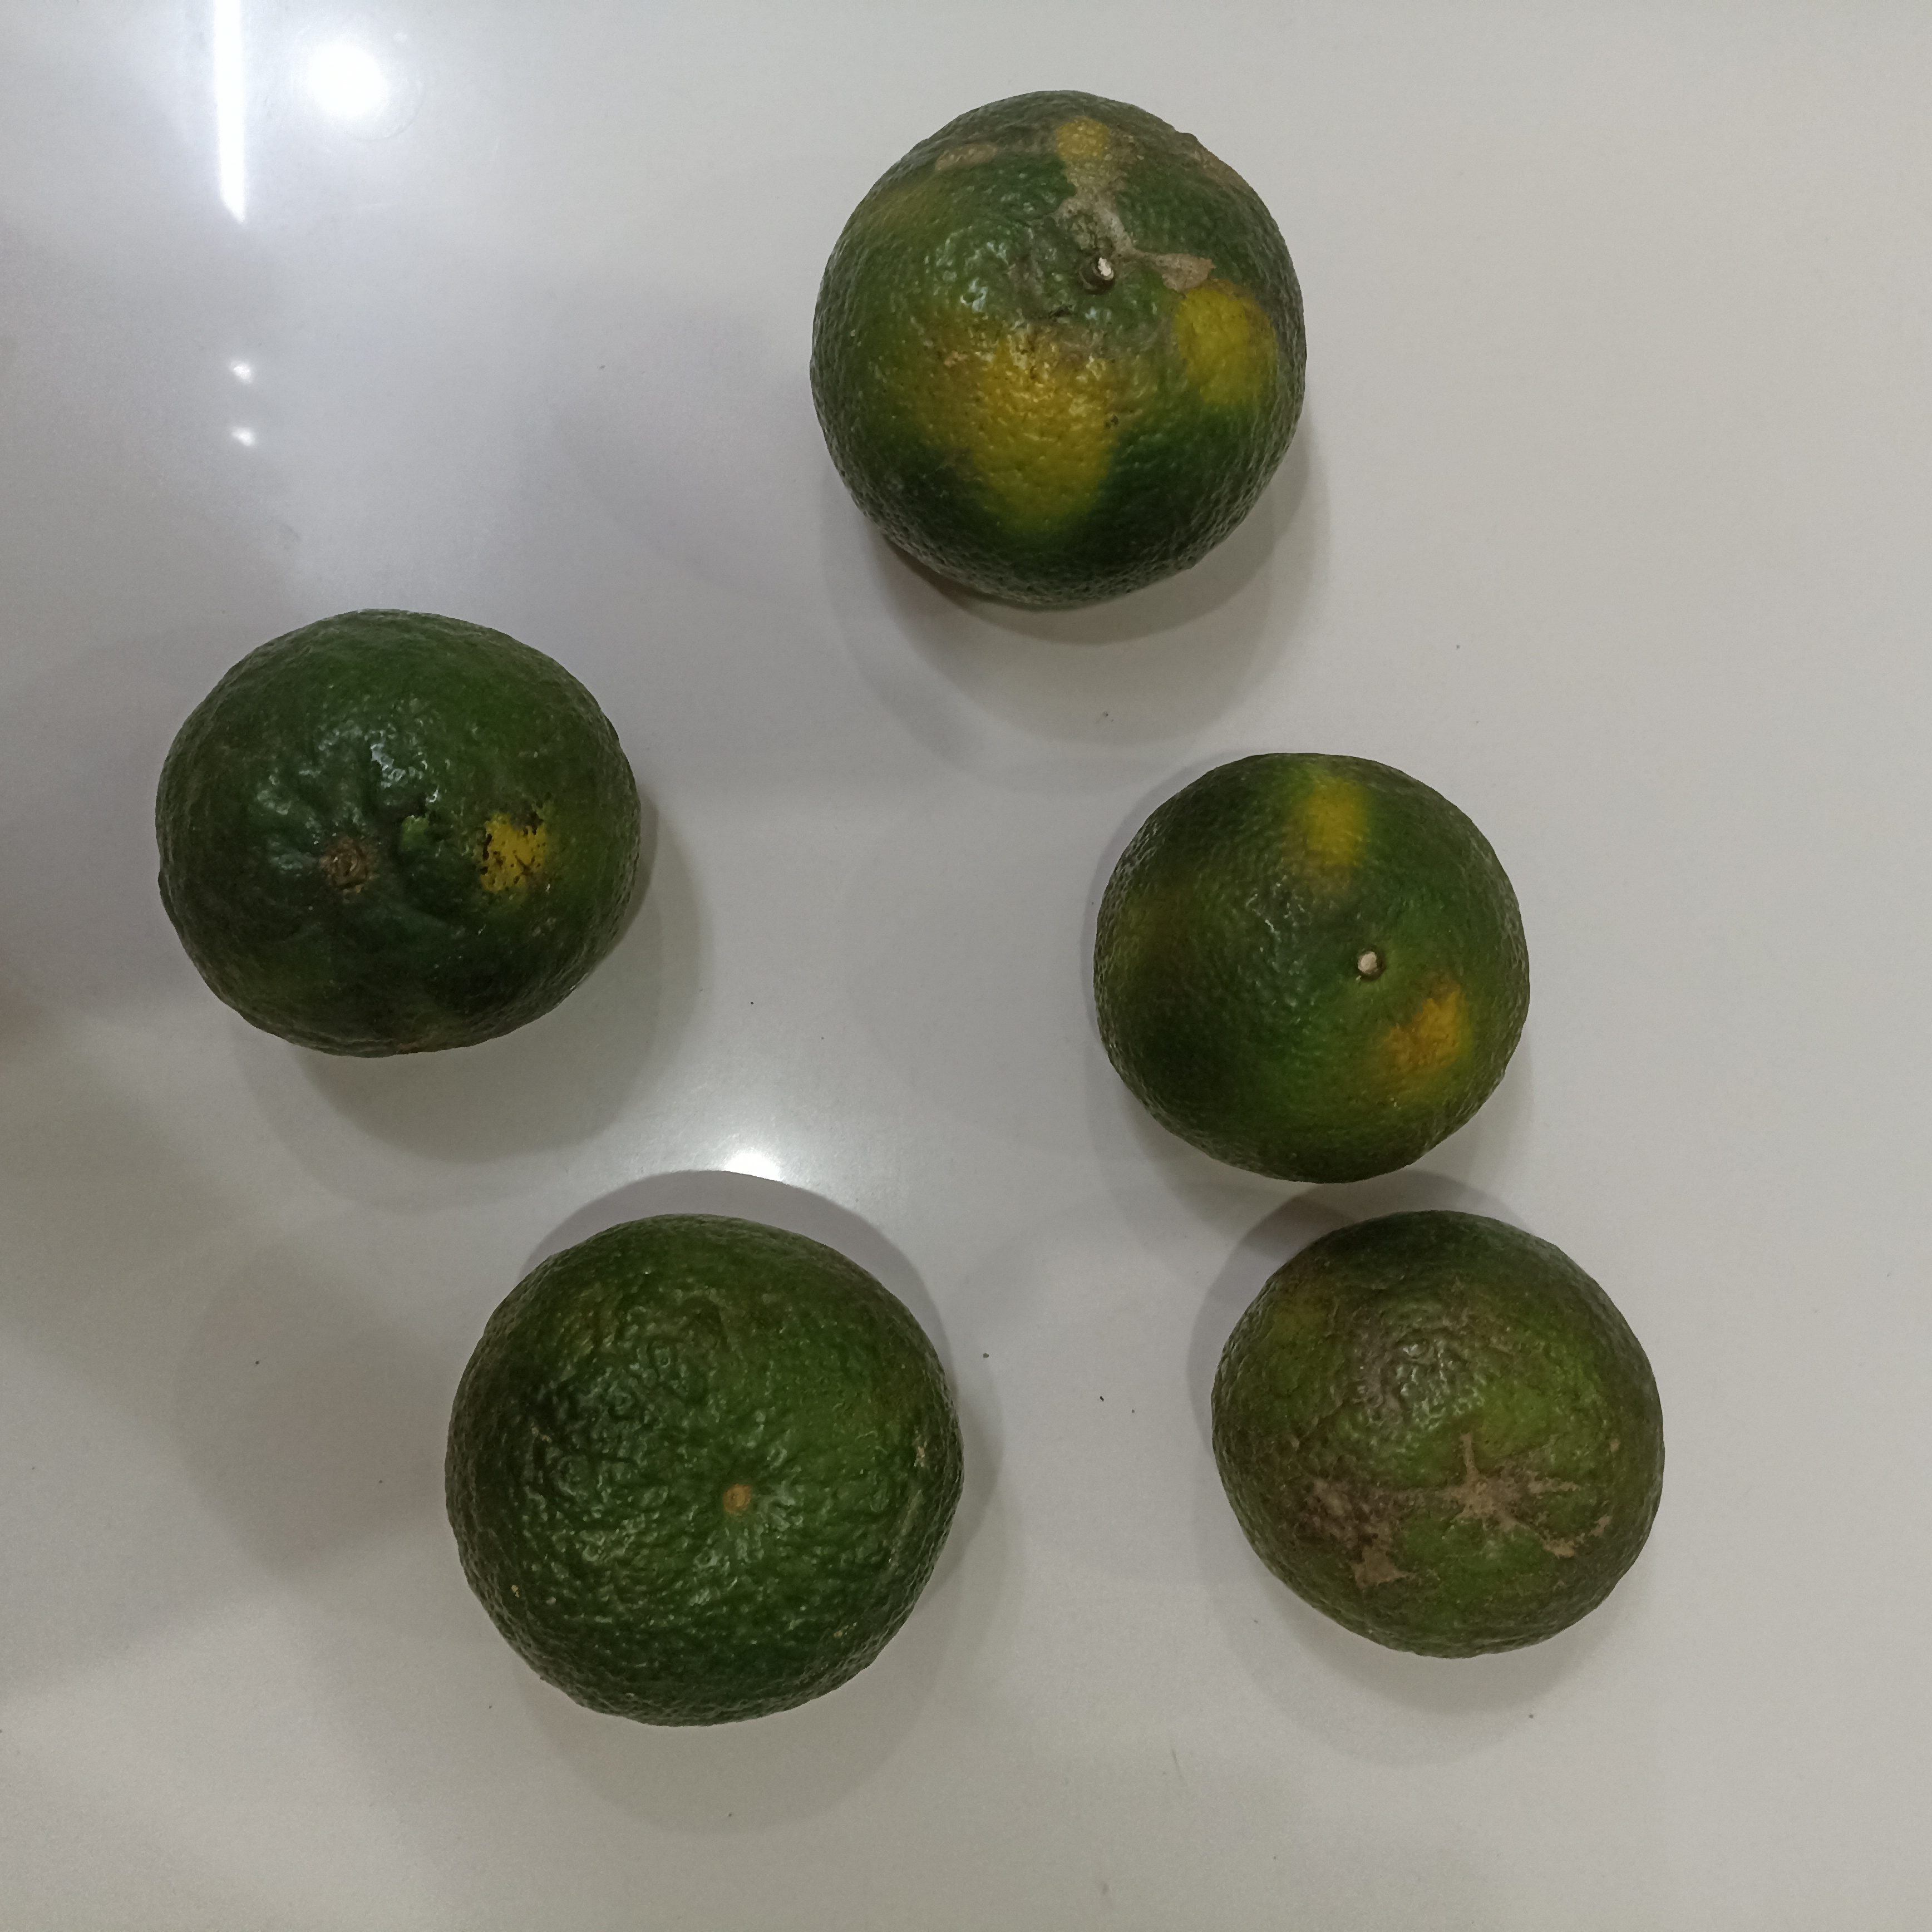Cam: (442, 1209, 965, 1731), (810, 90, 1307, 616), (150, 605, 646, 1063), (1213, 1207, 1668, 1656), (1093, 751, 1531, 1187)
